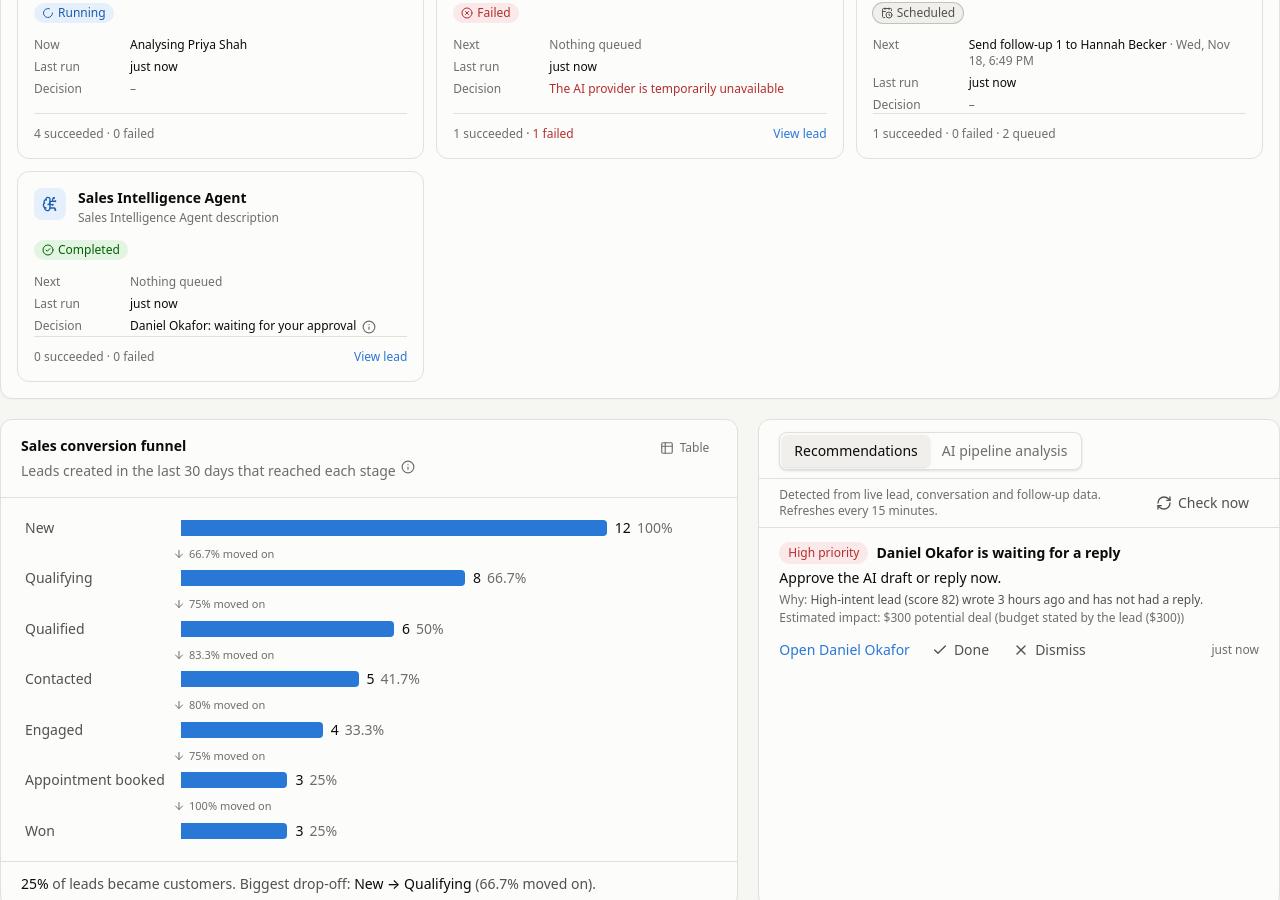
Scenario: Insights › shows AI pipeline analysis with the data behind it, and labels mock output honestly
(page scrolled)
What coordinates should you click on to do the following:
click the radio button labelled "AI pipeline analysis"
I would click on:
 (1005, 451)
Its box is [930,435,1079,467].
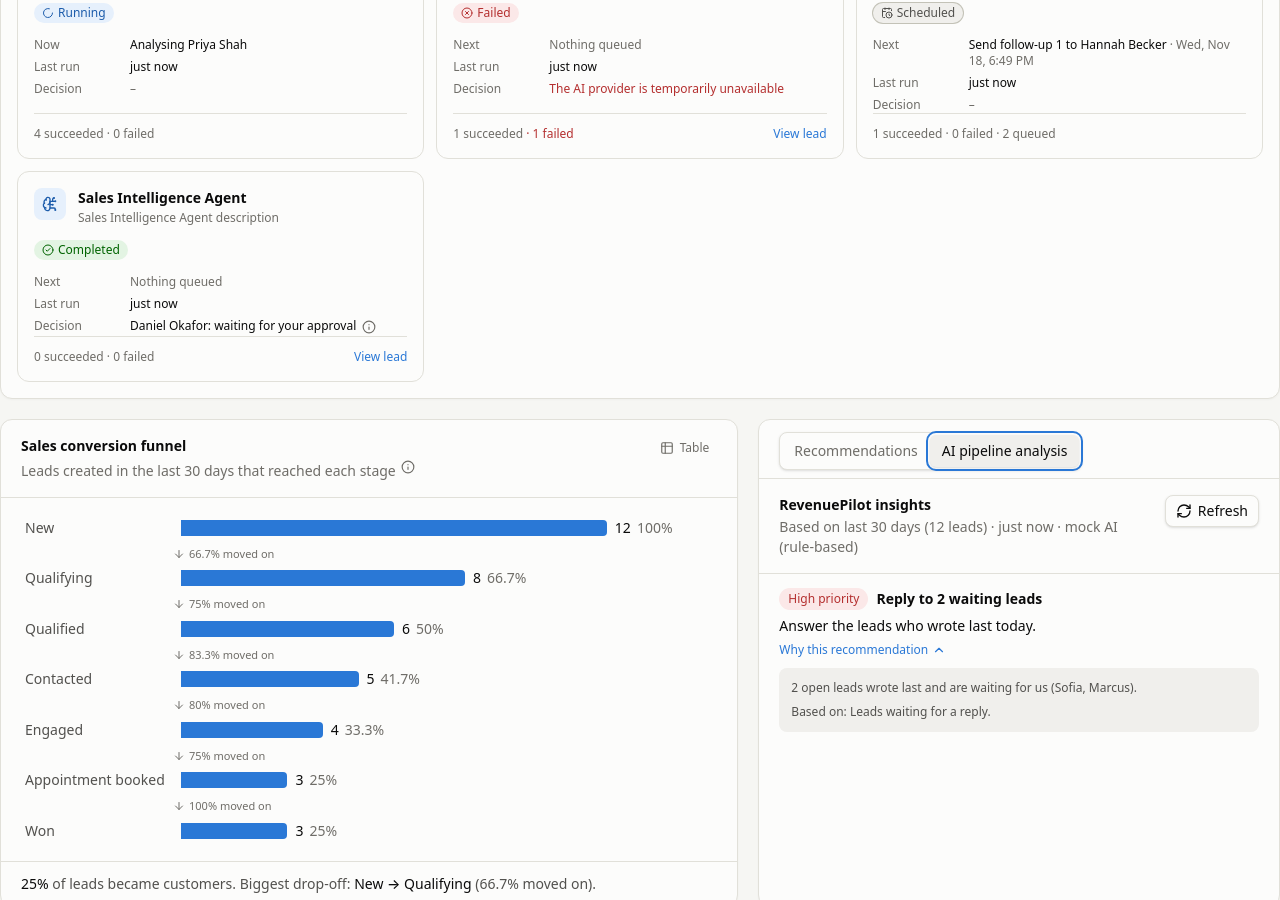
Check: the heading "Reply to 2 waiting leads" is shown, box [876,589,1042,609]
Check: the text "mock AI (rule-based)" is shown, box [779,517,1118,556]
Check: the text "Based on: Leads waiting for a reply." is shown, box [791,703,991,720]
